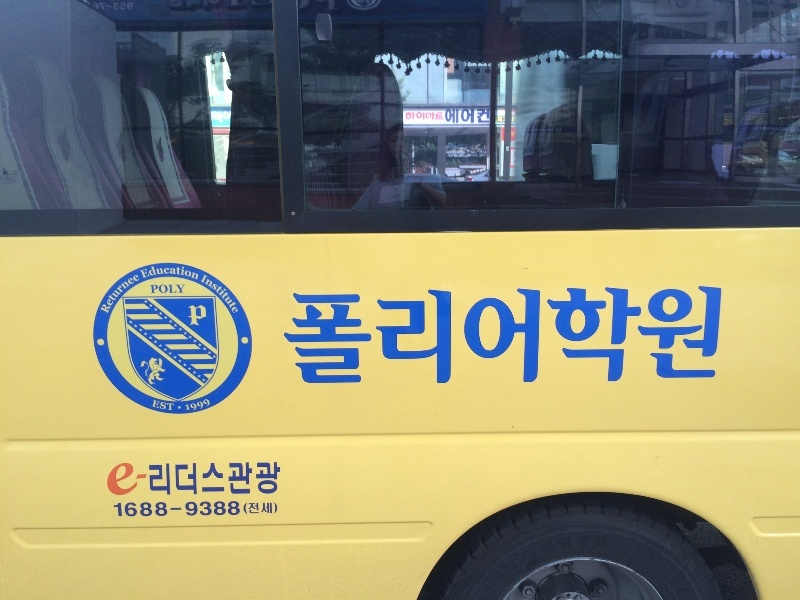text: (289, 282, 304, 388), (305, 282, 320, 388), (321, 282, 336, 388), (337, 282, 352, 388), (353, 282, 368, 388), (369, 282, 384, 388), (385, 282, 400, 388), (401, 282, 416, 388), (417, 282, 432, 388), (433, 282, 448, 388), (449, 282, 464, 388), (465, 282, 480, 388), (481, 282, 496, 388), (497, 282, 512, 388), (513, 282, 528, 388), (529, 282, 544, 388), (545, 282, 560, 388), (561, 282, 576, 388), (577, 282, 592, 388), (593, 282, 608, 388), (609, 282, 624, 388), (625, 282, 640, 388), (641, 282, 656, 388), (657, 282, 672, 388), (673, 282, 688, 388), (689, 282, 704, 388), (705, 282, 720, 388), (97, 271, 112, 316), (113, 271, 128, 316), (209, 272, 224, 316), (225, 272, 240, 316), (129, 271, 142, 316), (161, 461, 176, 497), (177, 461, 192, 497), (193, 461, 208, 497), (209, 461, 224, 497), (225, 461, 240, 497), (241, 461, 256, 497), (257, 461, 272, 497), (283, 282, 288, 388), (113, 464, 128, 498), (129, 464, 144, 498), (148, 461, 160, 497), (193, 303, 208, 329), (273, 461, 282, 497), (721, 282, 724, 388), (225, 501, 241, 517), (449, 107, 464, 124), (465, 107, 480, 124), (193, 398, 208, 414), (129, 501, 144, 517), (145, 501, 160, 517), (161, 501, 176, 517), (177, 501, 192, 517), (193, 501, 208, 517), (209, 501, 224, 517), (145, 266, 160, 281), (161, 266, 176, 281), (177, 266, 192, 281), (114, 501, 128, 517), (106, 464, 112, 498), (161, 399, 176, 412), (257, 502, 272, 515), (161, 284, 176, 295), (244, 502, 256, 515), (481, 107, 490, 124), (417, 111, 432, 121), (205, 272, 208, 316), (241, 272, 244, 316), (185, 398, 192, 414), (150, 284, 160, 295), (193, 266, 200, 281), (188, 303, 192, 329), (406, 111, 416, 121), (433, 111, 443, 121), (177, 284, 186, 295), (153, 399, 160, 412), (388, 194, 400, 201), (139, 266, 144, 281), (145, 464, 147, 498), (273, 502, 278, 515), (445, 107, 448, 124), (497, 116, 505, 122), (95, 271, 96, 316), (209, 398, 211, 414), (394, 187, 400, 192), (513, 116, 517, 122)
